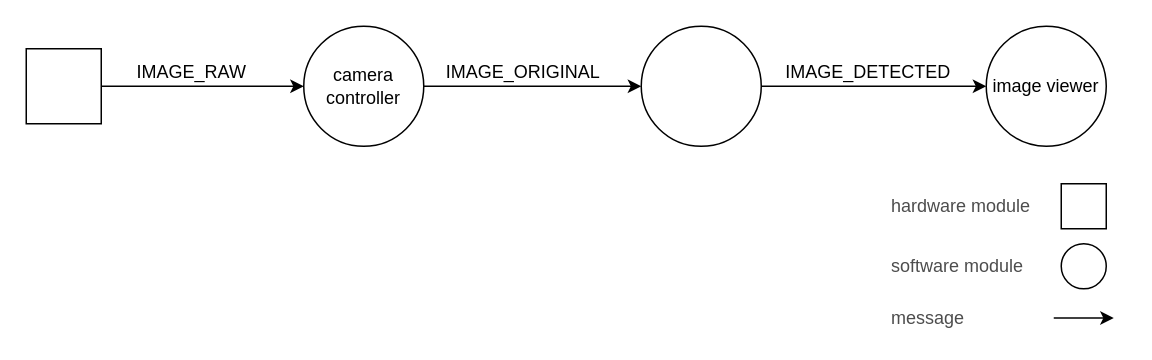
Image size: 1152x360. Some labels were removed from this diagram. Each missing label, with the centre of its shape:
"camera" goes at point (63, 85).
"object detector" goes at point (700, 85).
